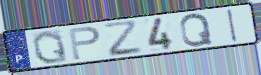4: (146, 16, 175, 51)
I: (226, 8, 240, 44)
P: (67, 25, 102, 61)
Q: (31, 29, 70, 65), (178, 12, 214, 48)
Z: (101, 18, 145, 58)
